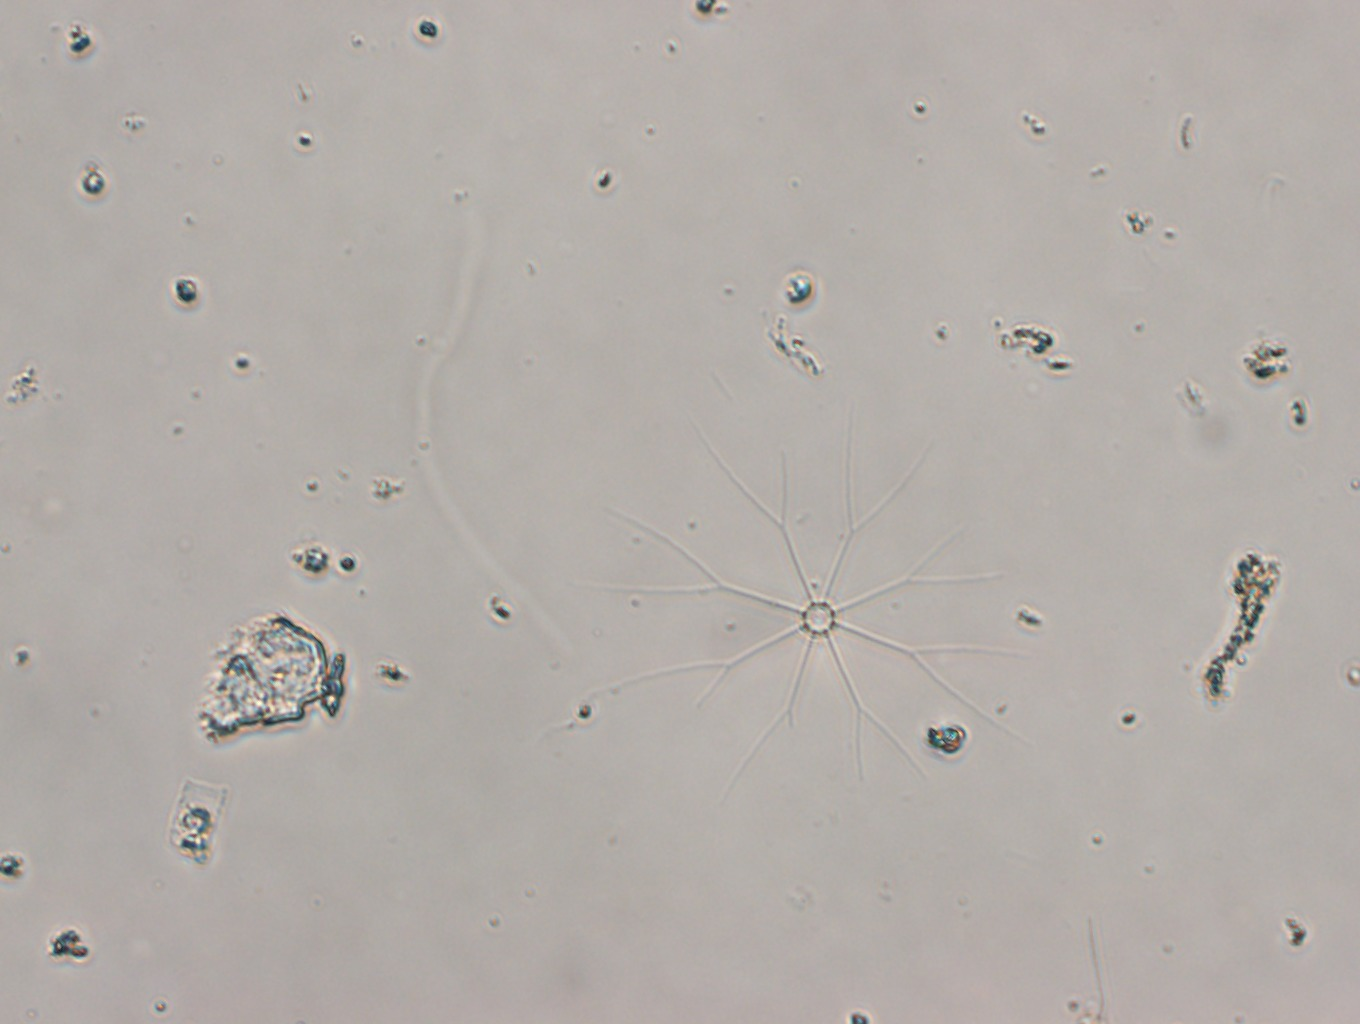bacteriastrum: (590, 408, 1026, 817)
